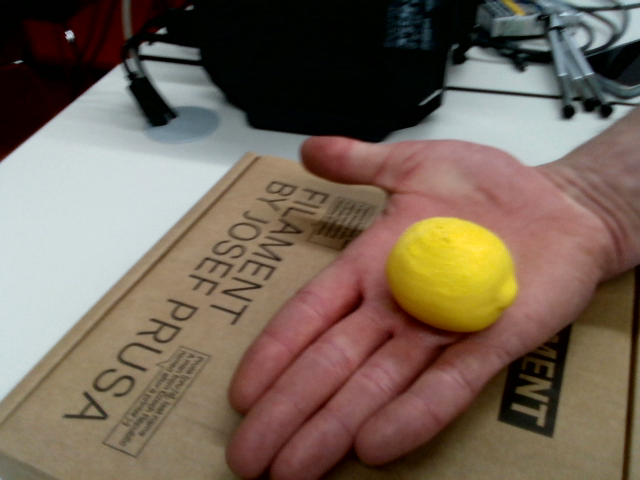lemon: (369, 195, 537, 354)
